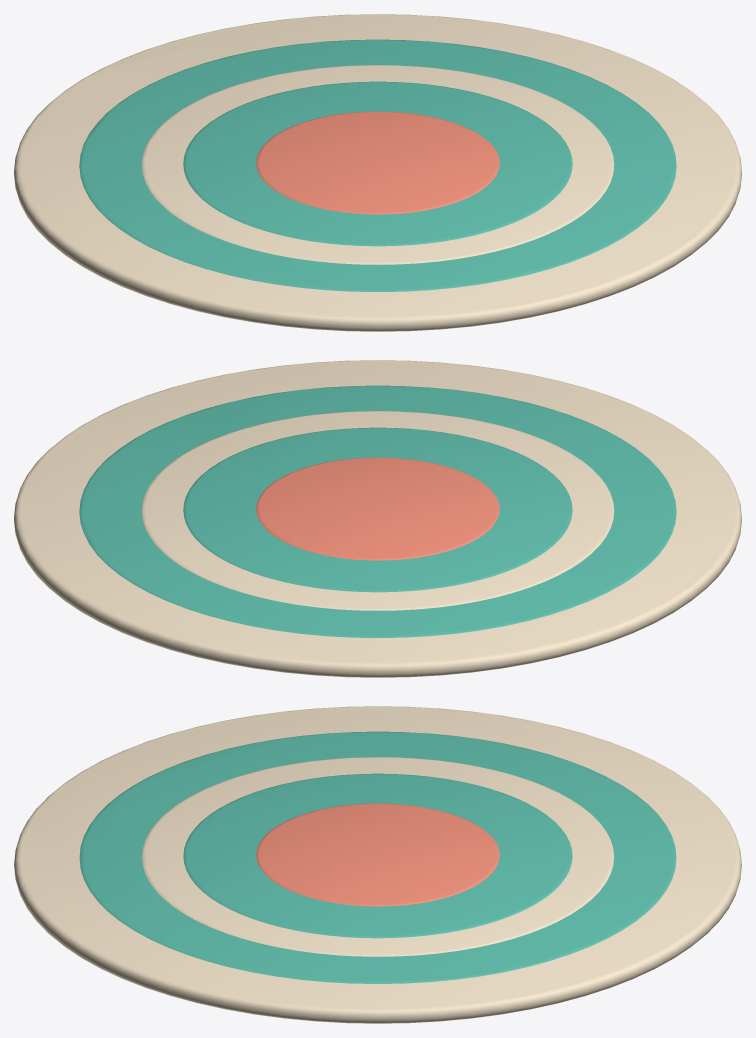
File: rug_c.glb
3 views of the same model, one above another, from view 1: azimuth 30°, elevation 25°; view 2: azimuth 150°, elevation 25°; view 3: azimuth 270°, elevation 25° (orthographic).
Visible parts, largest first — view 1: body; view 2: body; view 3: body.
Boxes of the visible parts, x1,y1,x2,y2 form: body: [14, 14, 741, 331]; body: [14, 360, 741, 677]; body: [14, 706, 741, 1023].
Bounding box in the file's own units: 1.4 × 0.038 × 1.4.
